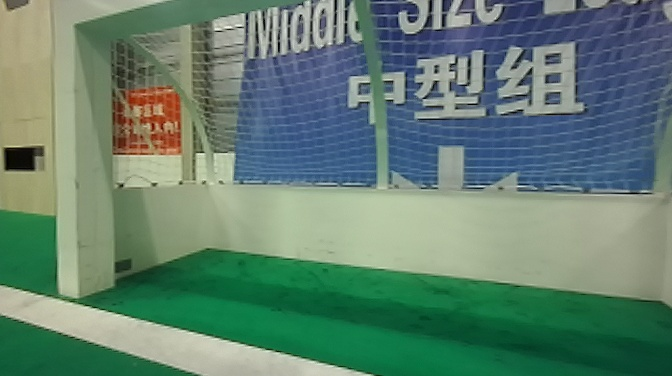goalpost: (47, 1, 118, 302)
